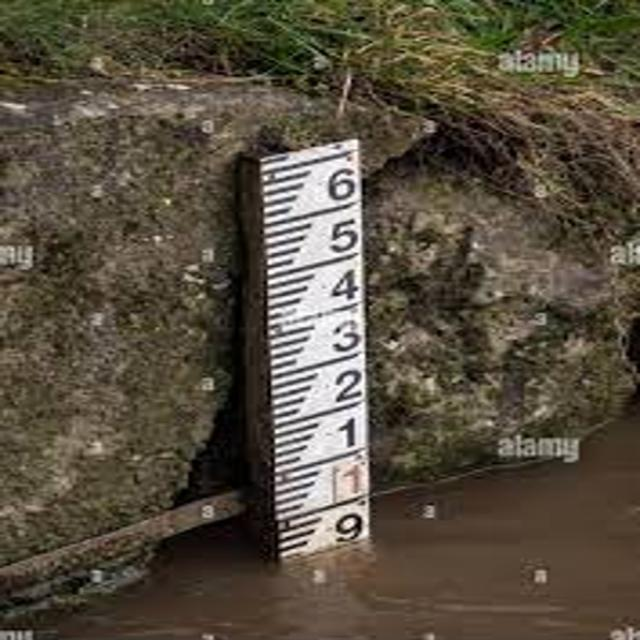ruler: (242, 129, 386, 572)
value: (316, 158, 362, 208), (321, 262, 364, 312), (326, 410, 368, 460), (323, 205, 363, 257), (323, 316, 369, 359), (332, 359, 369, 412), (335, 455, 373, 500), (334, 506, 369, 549)
